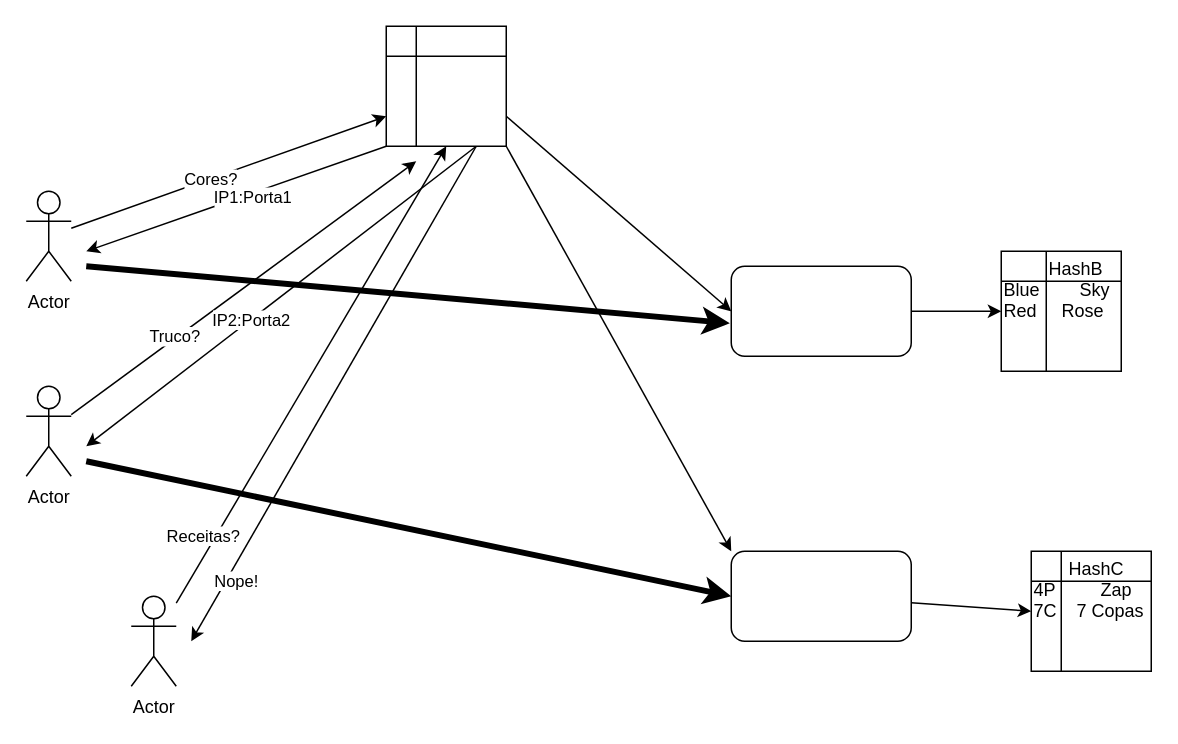
The diagram is 1178 pixels wide and 744 high, and some of its shapes have lost their labels. The centre of each missing label's shape, as x and y in pixels:
"HashA S1 IP1:Porta1 S2 IP2:Porta2" goes at (x=445, y=85).
"S1" goes at (x=820, y=310).
"S2" goes at (x=820, y=595).
